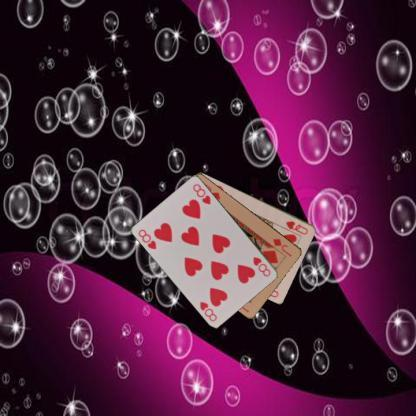8h: (136, 226, 158, 251), (251, 254, 272, 278)
Jd: (270, 236, 293, 258)
Qh: (283, 218, 310, 236)
